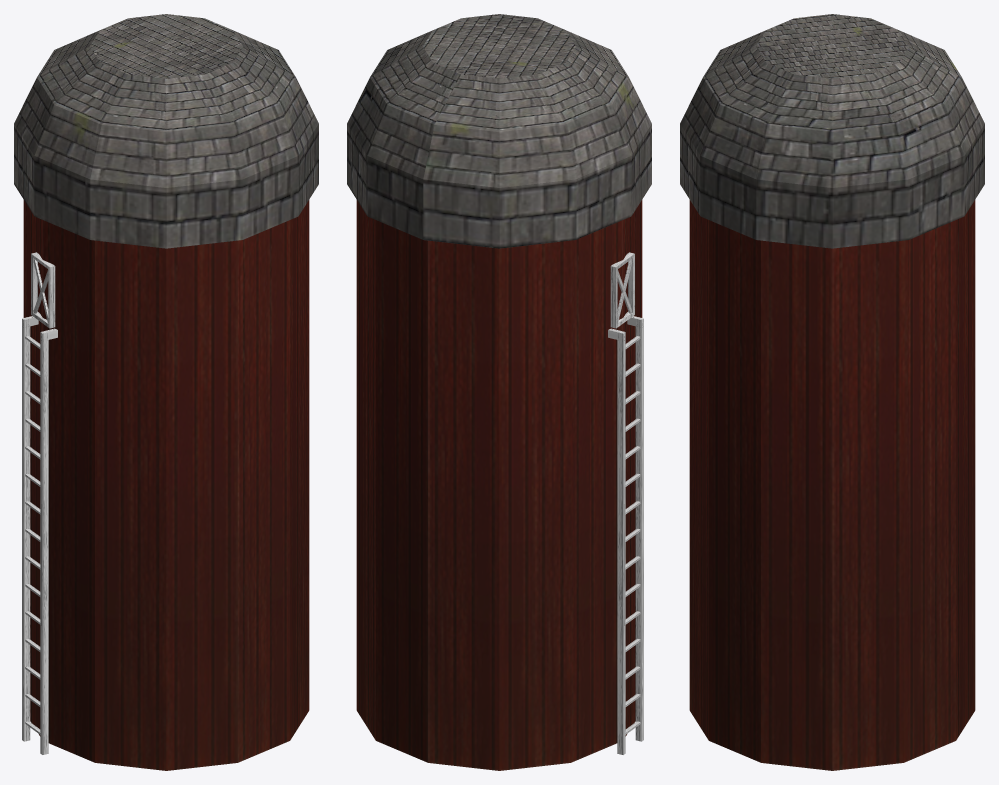
The model's file is Silo.fbx.
3 views of the same model, side by side, from view 1: azimuth 30°, elevation 25°; view 2: azimuth 150°, elevation 25°; view 3: azimuth 270°, elevation 25° (orthographic).
Parts seen in each view (by area): view 1: Silo; view 2: Silo; view 3: Silo.
Part boxes in pixels (bbox=[...]): Silo: bbox=[14, 14, 318, 770]; Silo: bbox=[347, 14, 651, 770]; Silo: bbox=[680, 14, 984, 770].
Bounding box in the file's own units: 2.37 × 2.35 × 5.68.
Materials: 1 (1 with a texture image).
